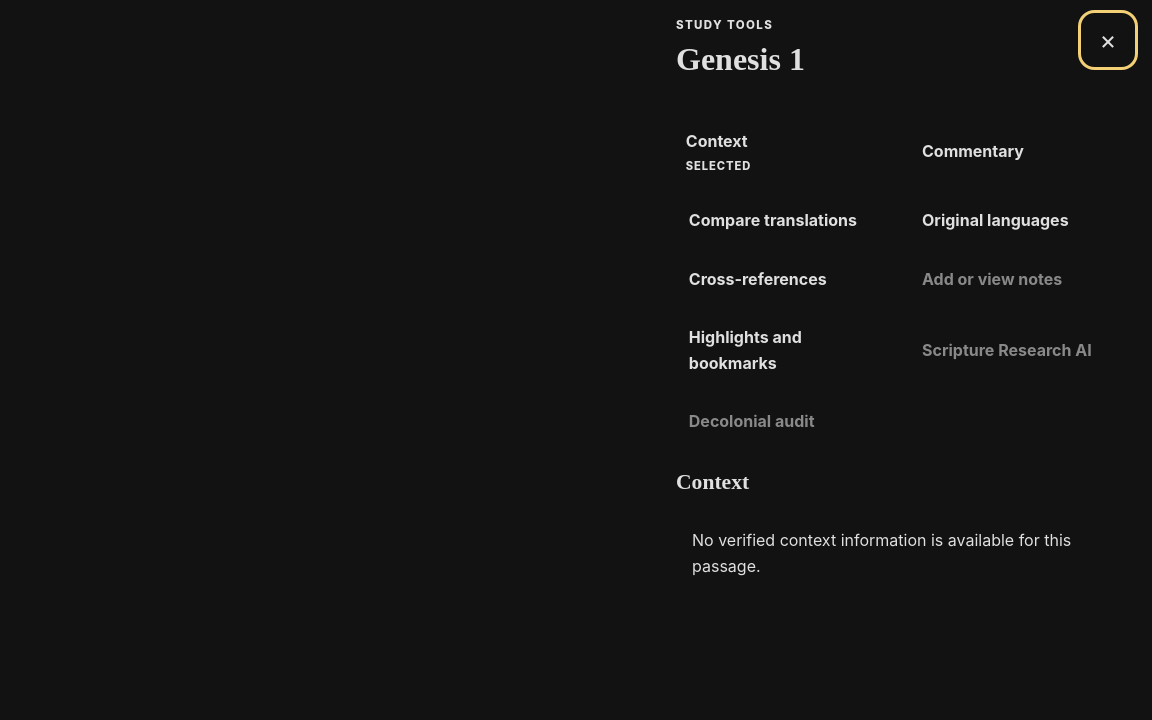
Test: StudyTools › explains that verse markers require a selected verse
Click the button "Highlights and bookmarks" at (787, 351), box [676,314,899,388]
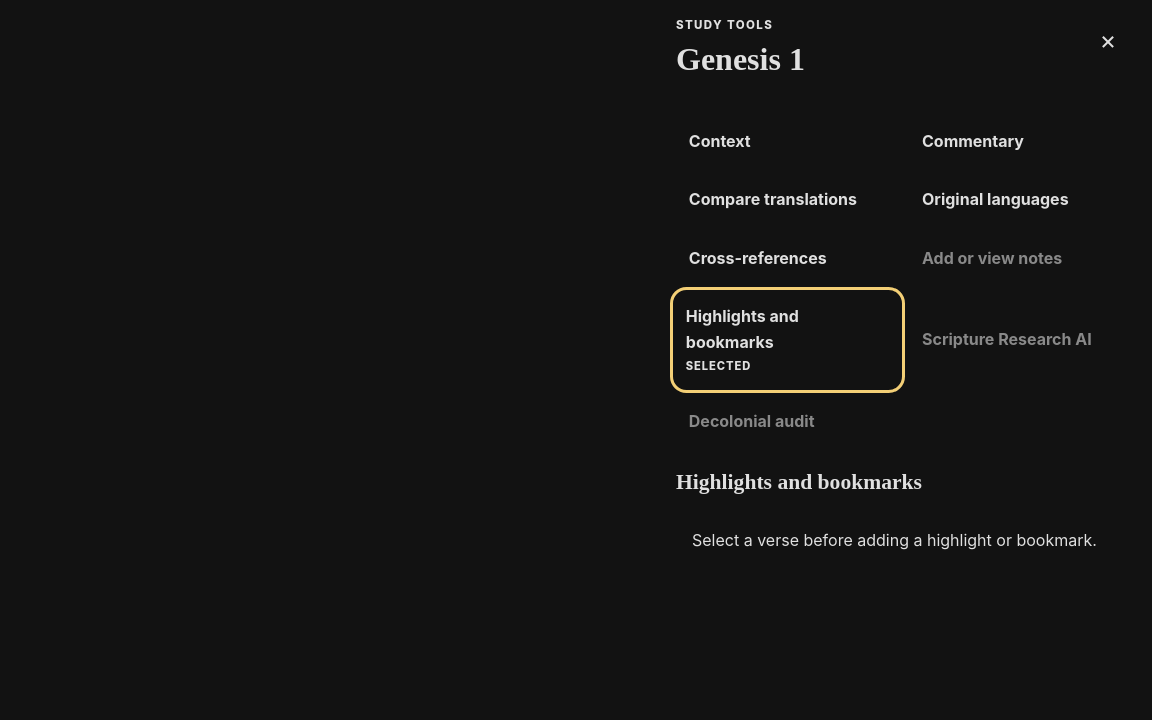
Expected: the text "Select a verse before adding a highlight or bookmark." is shown, [692,530,1097,550]
